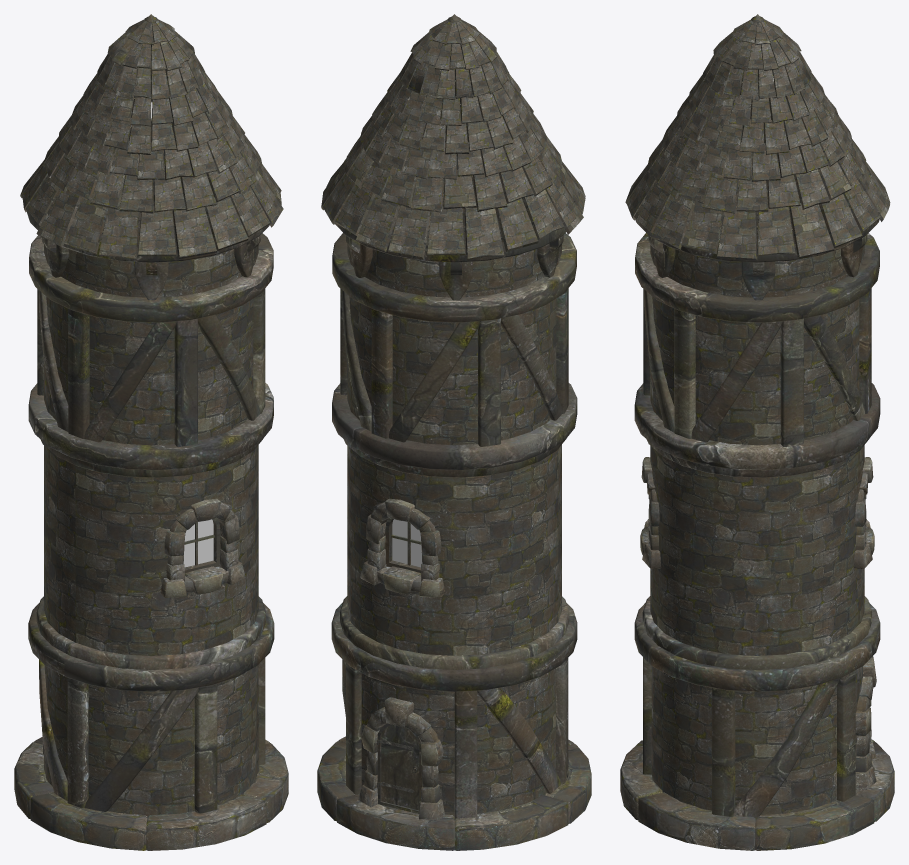
Rendered from Tower.fbx.
The picture shows the model from 3 angles, left to right: view 1: azimuth 30°, elevation 25°; view 2: azimuth 150°, elevation 25°; view 3: azimuth 270°, elevation 25°; orthographic projection.
Visible parts, largest first — view 1: Tower; view 2: Tower; view 3: Tower.
Boxes of the visible parts, x1,y1,x2,y2 form: Tower: [14, 14, 288, 850]; Tower: [317, 14, 591, 850]; Tower: [620, 14, 894, 850].
Bounding box in the file's own units: 6191 × 19440 × 6201.
Materials: 5 (4 with a texture image).
